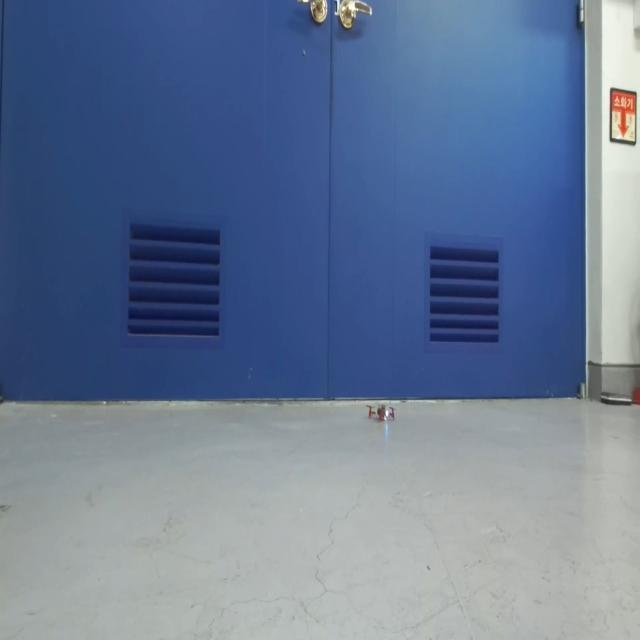crazyflie: (365, 400, 397, 427)
